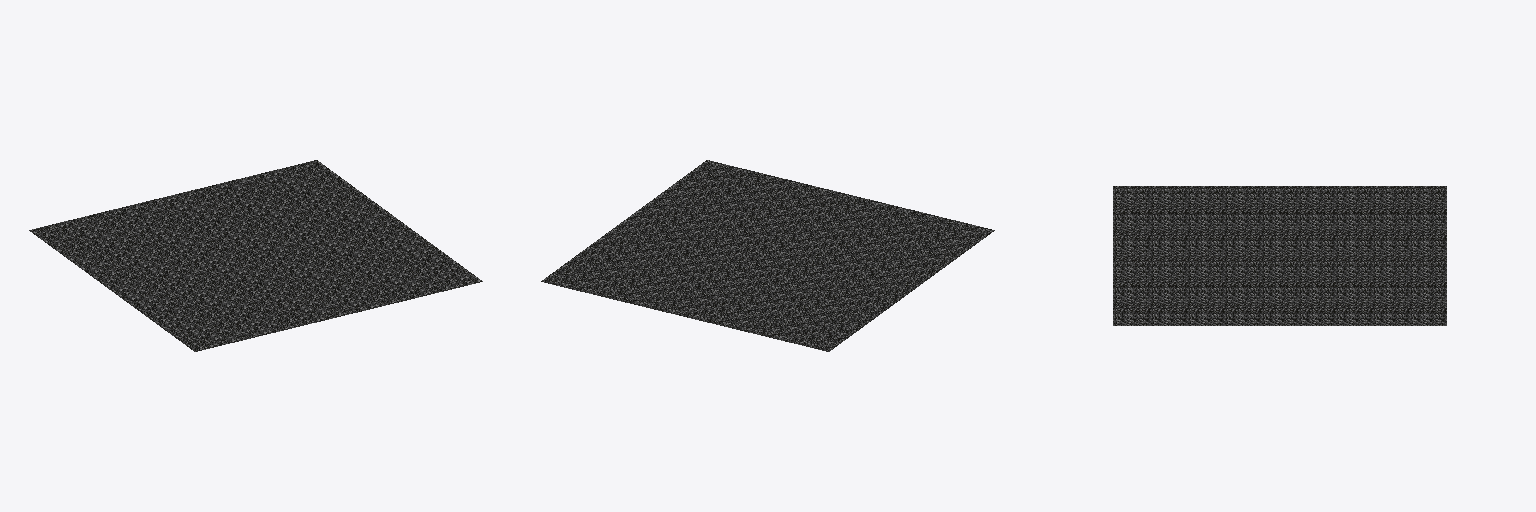
The picture shows the model from 3 angles: view 1: azimuth 30°, elevation 25°; view 2: azimuth 150°, elevation 25°; view 3: azimuth 270°, elevation 25°; orthographic projection.
Visible parts, largest first — view 1: ground.000_ground.012; view 2: ground.000_ground.012; view 3: ground.000_ground.012.
Boxes of the visible parts, box(x1,y1,x2,y2) form: ground.000_ground.012: box(29, 160, 482, 351); ground.000_ground.012: box(541, 160, 994, 351); ground.000_ground.012: box(1113, 186, 1446, 325).
Size of the model in its own units: 27 by 0 by 27.
1 materials, 1 textured.